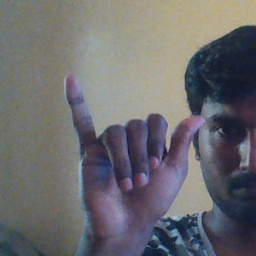J: (59, 72, 204, 230)
